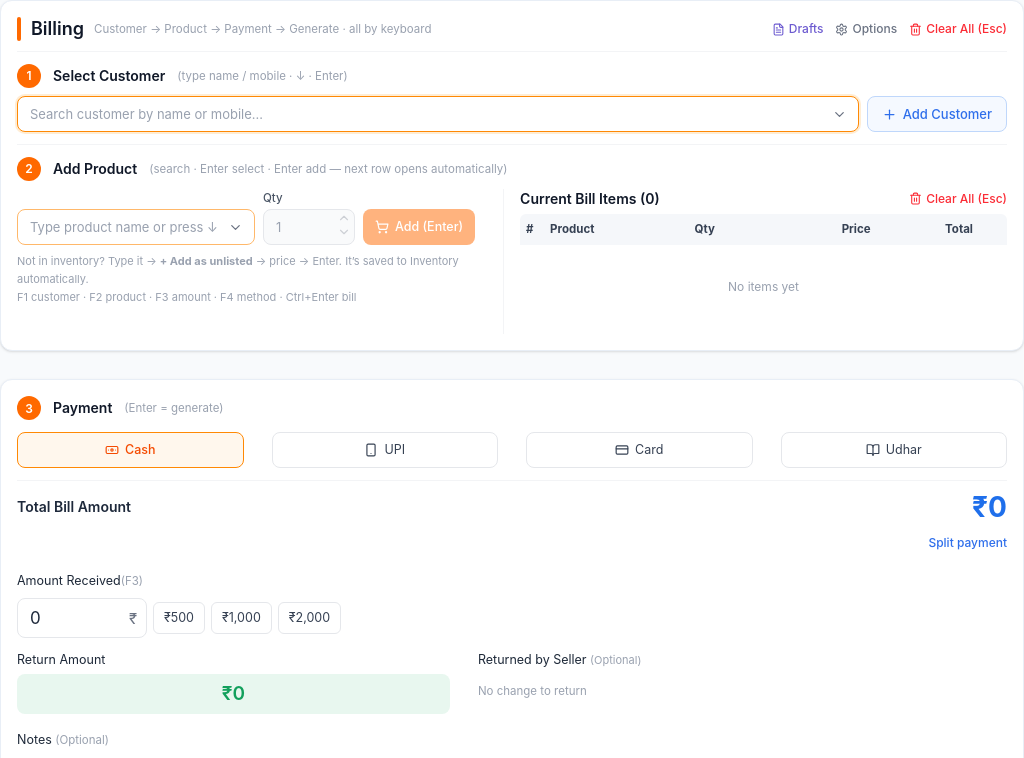
phone search — global-user suggestion › the shop already has another customer with that name → the confirm form opens with the server’s message so the name can be changed
Type "9876543210" into the field labelled "customer" at [438, 114], box [17, 96, 859, 132]
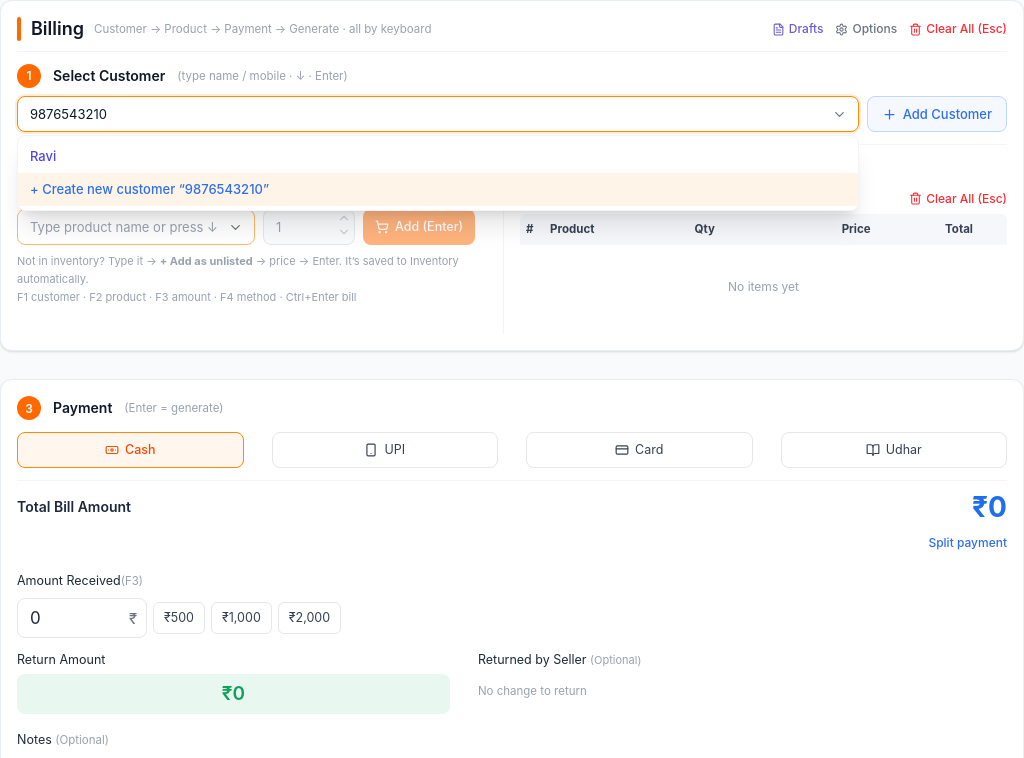
Press the mouse on the option "Ravi" at [43, 156], box [30, 148, 56, 164]
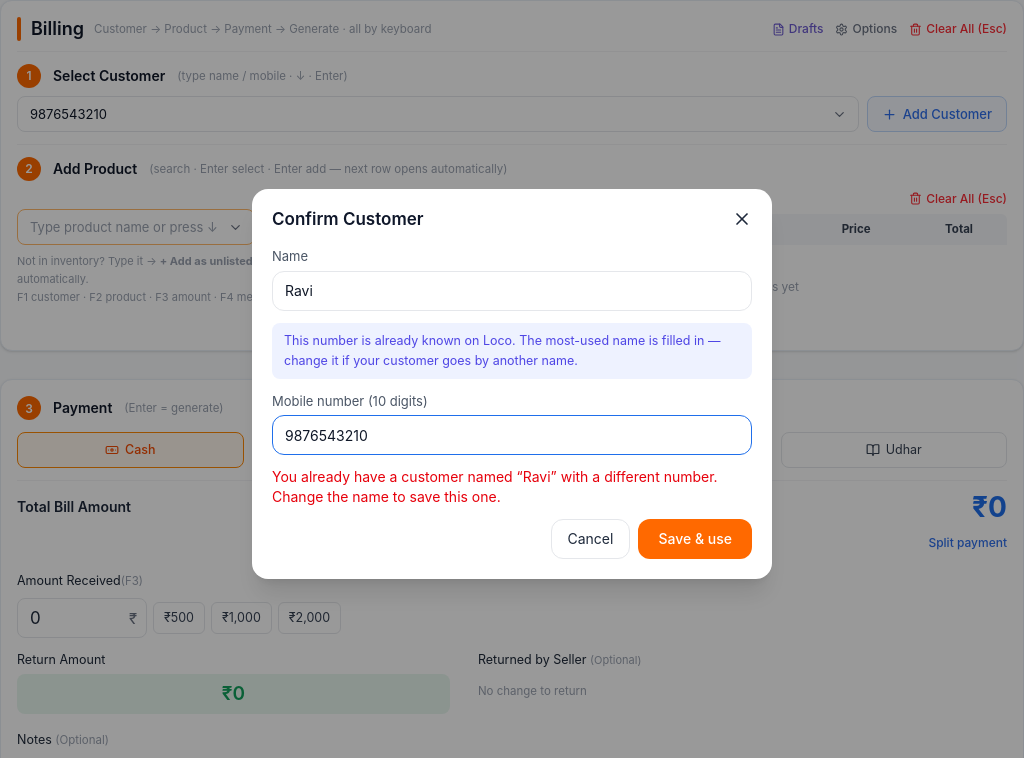
Check: the field labelled "Name" holds "Ravi", box [272, 271, 752, 311]
Check: the text "Change the name to save this one" is shown, box [272, 468, 718, 505]
